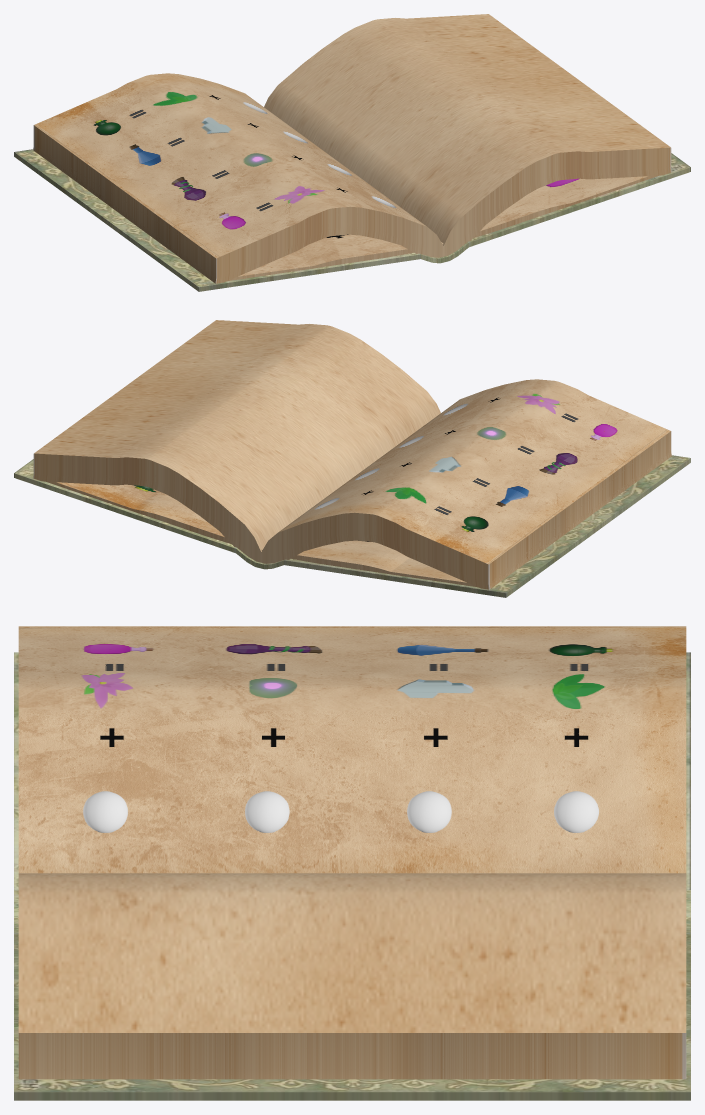
The model's file is book 1.fbx.
3 views of the same model, one above another, from view 1: azimuth 30°, elevation 25°; view 2: azimuth 150°, elevation 25°; view 3: azimuth 270°, elevation 25° (orthographic). The views are drawn at different scales.
Visible parts, largest first — view 1: Plane.001; view 2: Plane.001; view 3: Plane.001.
Boxes of the visible parts, x1,y1,x2,y2 form: Plane.001: (14, 14, 690, 291); Plane.001: (14, 320, 690, 597); Plane.001: (14, 626, 690, 1100).
Size of the model in its own units: 66.02 by 10.28 by 42.95.
Materials: 3 (3 with a texture image).
